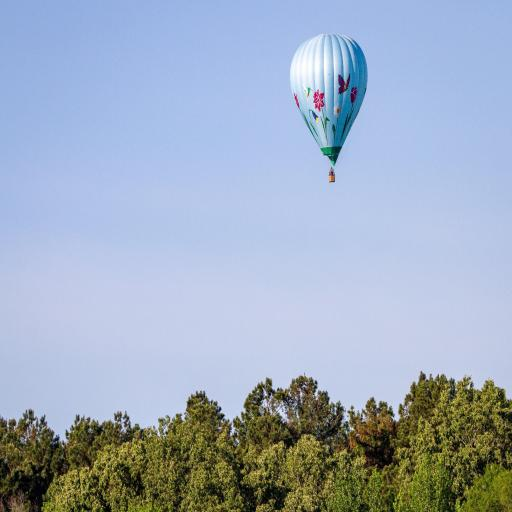hot air ballon: (289, 30, 369, 184)
